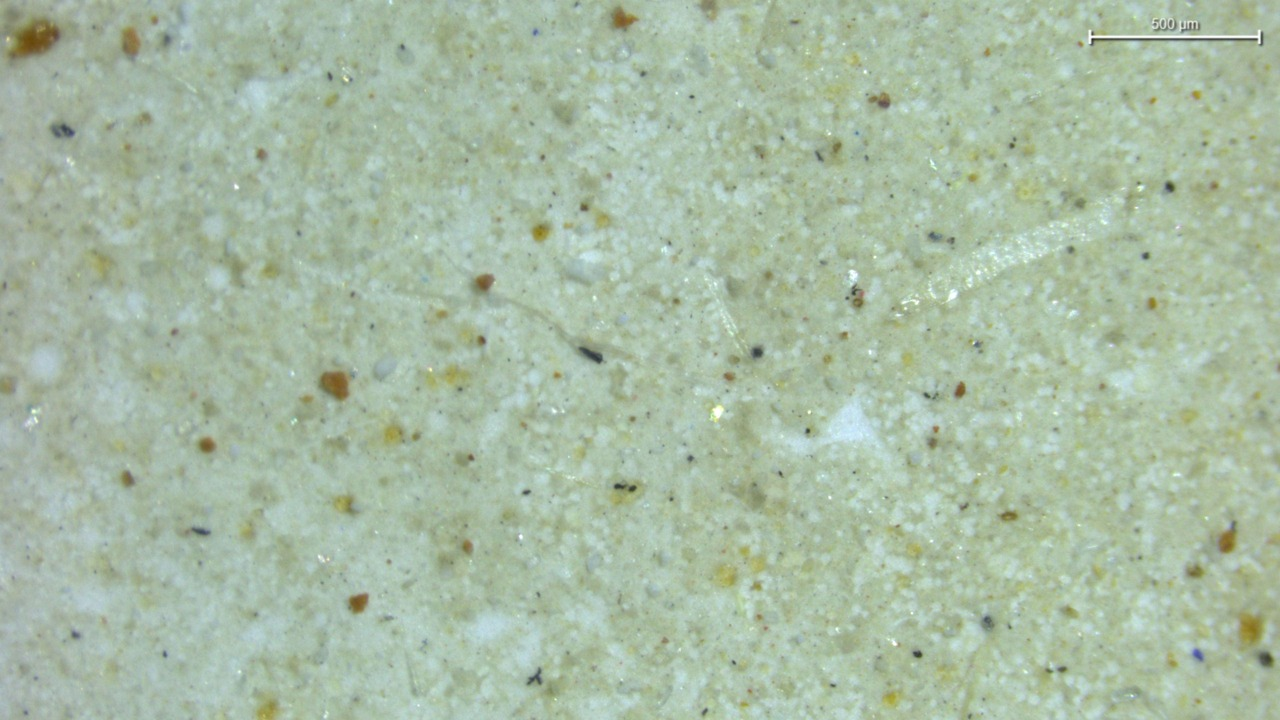microplastic_fragment: (373, 357, 397, 380)
